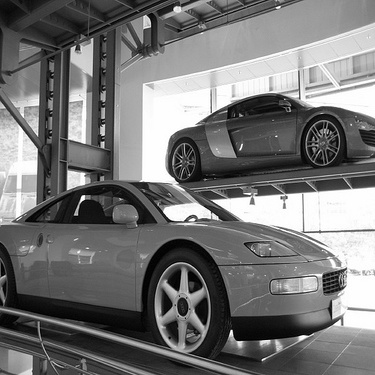car: (1, 168, 359, 343), (139, 83, 367, 173)
